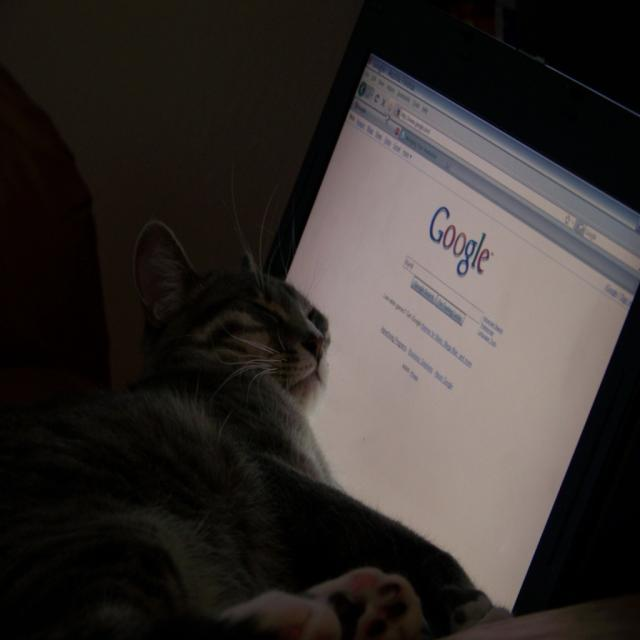google: (429, 204, 495, 282)
